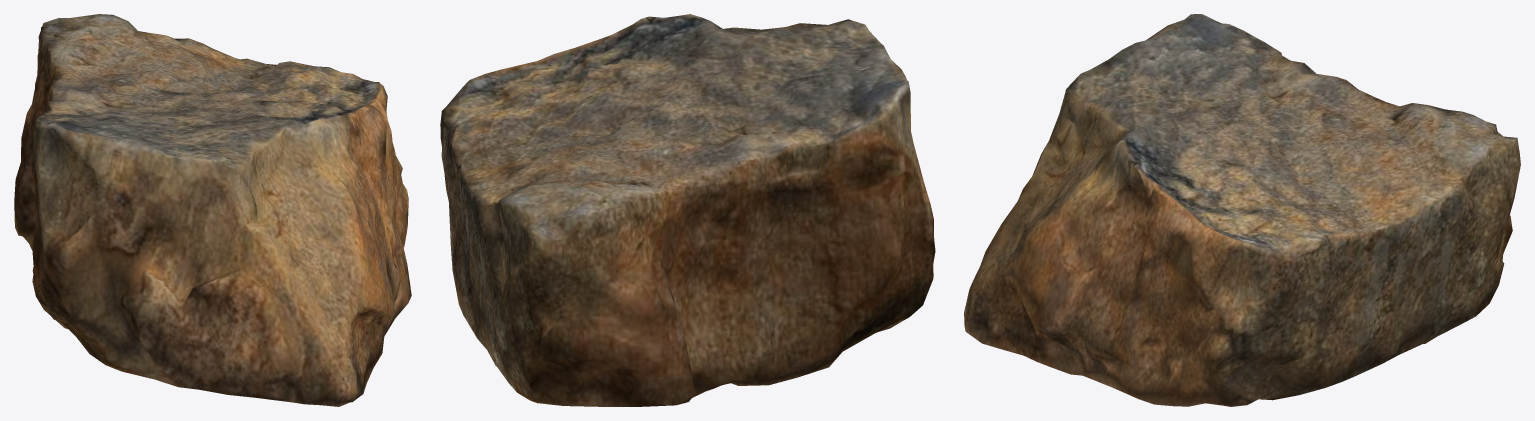
The model's file is namaqualand_boulder_03.glb.
3 renders of one model, left to right at view 1: azimuth 30°, elevation 25°; view 2: azimuth 150°, elevation 25°; view 3: azimuth 270°, elevation 25°, orthographic. The views are drawn at different scales.
Parts seen in each view (by area): view 1: boulder_03_LOD0; view 2: boulder_03_LOD0; view 3: boulder_03_LOD0.
Boxes of the visible parts, <box> form: boulder_03_LOD0: <box>14,14,411,406</box>; boulder_03_LOD0: <box>440,14,935,406</box>; boulder_03_LOD0: <box>964,14,1520,406</box>.
Size of the model in its own units: 2.4 by 1.47 by 3.06.
1 material, 1 textured.
